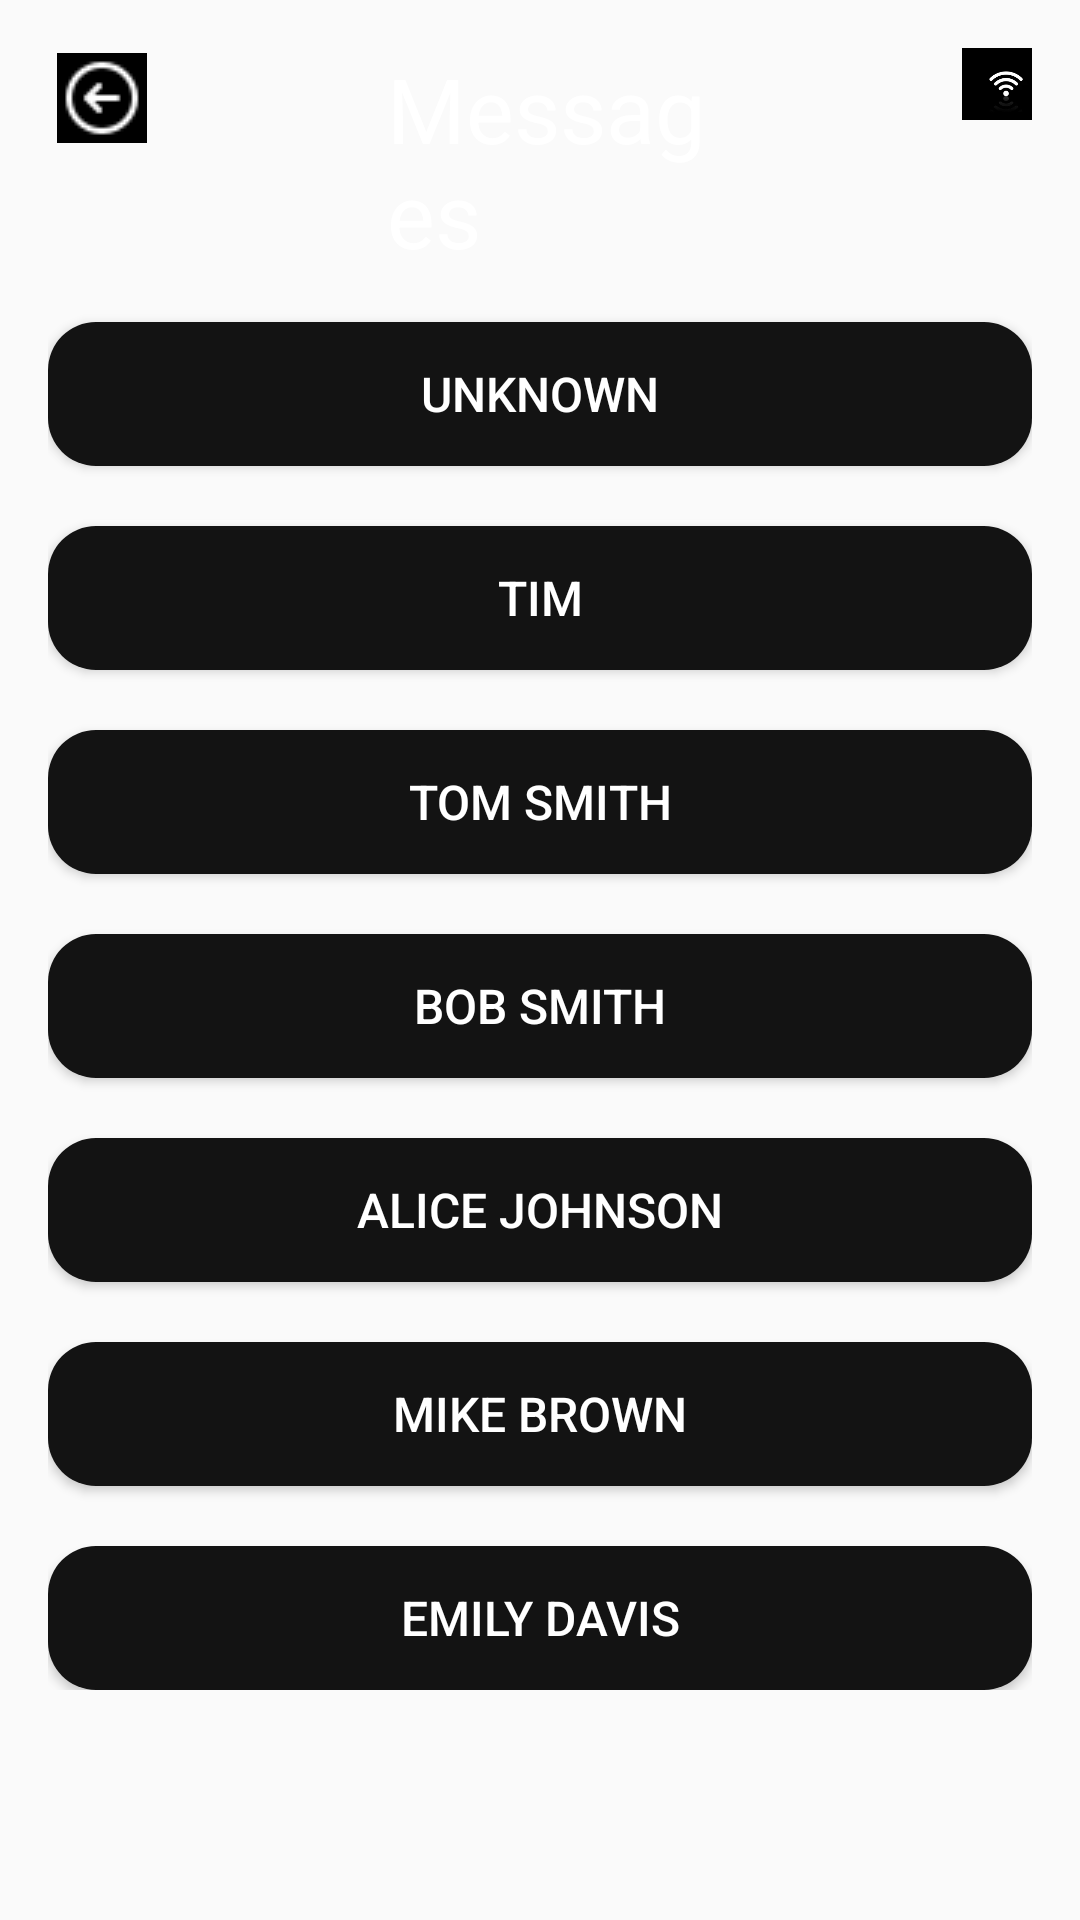

Icon bounding boxes for this 1080w x 1920h phone screenshot, format [x1,y1,x2,y2]:
back: [57,53,147,143]
